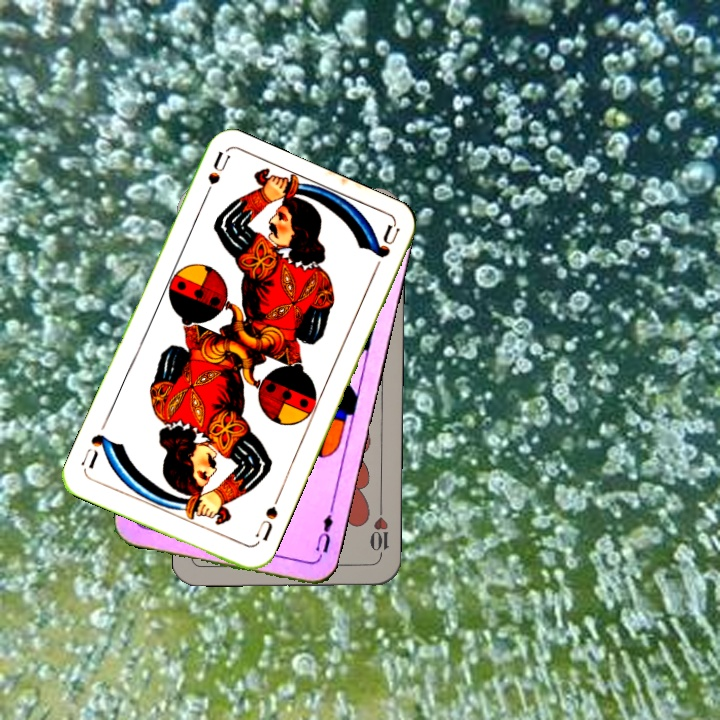EU: (311, 504, 336, 556)
H10: (366, 503, 392, 562)
SU: (197, 149, 232, 207), (250, 492, 283, 548)
